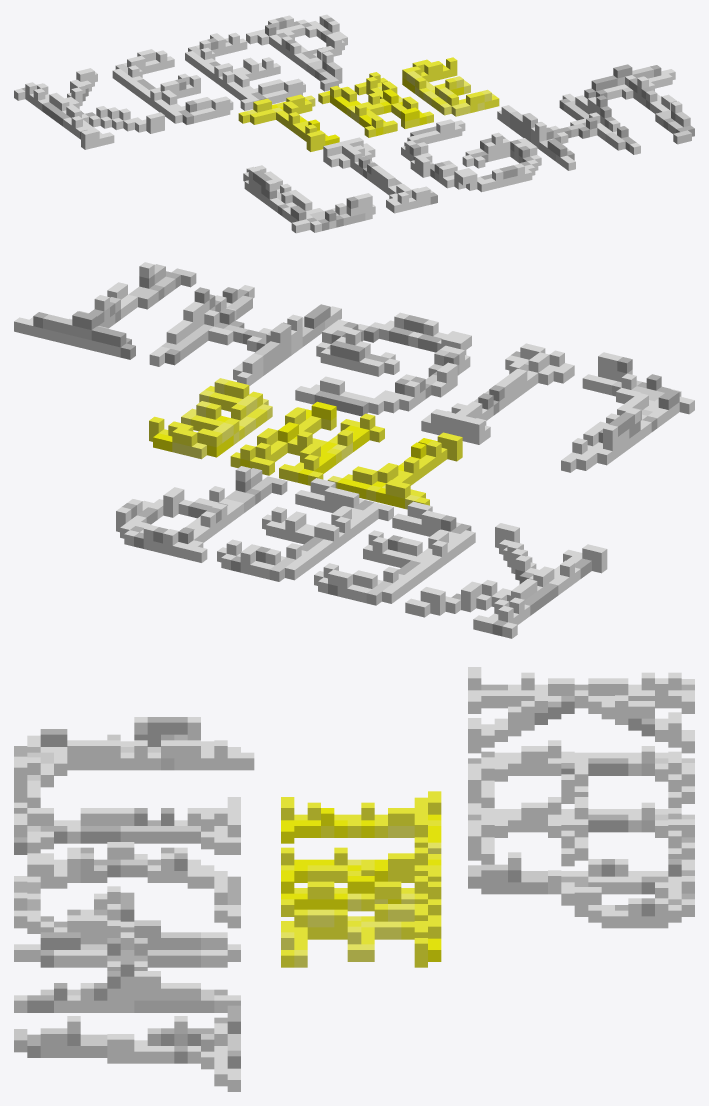
Rendered from Title.obj.
3 renders of one model, top to bottom at view 1: azimuth 30°, elevation 25°; view 2: azimuth 150°, elevation 25°; view 3: azimuth 270°, elevation 25°, orthographic. The views are drawn at different scales.
Parts seen in each view (by area): view 1: Title; view 2: Title; view 3: Title.
Part boxes in pixels (left/top/right/bottom): Title: left=14, top=14, right=694, bottom=233; Title: left=14, top=262, right=694, bottom=638; Title: left=14, top=667, right=694, bottom=1091.
Bounding box in the file's own units: 71 × 4 × 51.
1 material, 1 textured.
